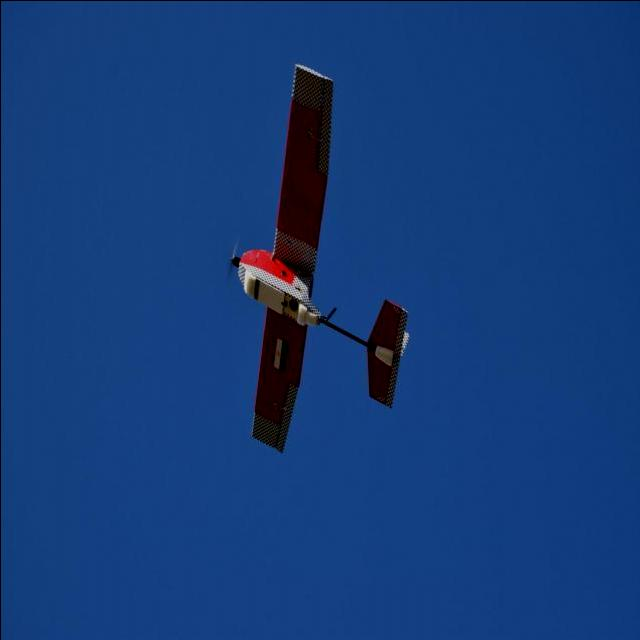plane: (226, 61, 409, 452)
